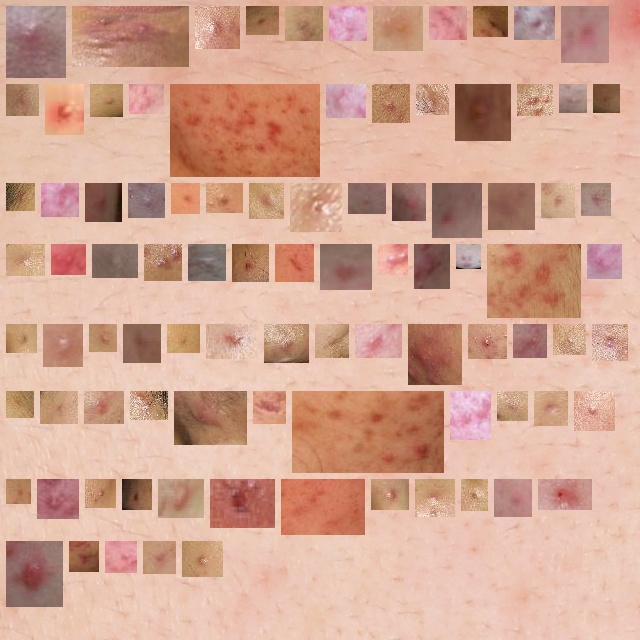papule: (178, 92, 312, 169), (300, 399, 436, 465), (80, 14, 181, 59), (495, 252, 573, 310), (289, 487, 357, 527), (14, 14, 58, 70), (182, 399, 239, 437), (408, 332, 454, 377), (14, 549, 55, 599), (463, 92, 503, 133), (218, 487, 267, 520), (440, 191, 474, 230), (569, 14, 601, 55), (298, 191, 334, 224), (328, 252, 364, 284), (381, 14, 415, 43), (496, 191, 527, 222), (546, 487, 584, 509), (458, 399, 483, 432), (53, 92, 76, 127), (203, 14, 232, 41), (166, 487, 196, 510), (214, 332, 250, 351), (272, 332, 301, 355), (51, 332, 75, 359), (45, 487, 71, 511), (582, 399, 607, 423), (422, 252, 442, 281), (327, 92, 358, 110), (363, 332, 394, 350), (100, 252, 130, 270), (423, 487, 447, 509), (380, 92, 402, 115), (283, 252, 306, 274), (131, 332, 153, 355), (190, 549, 215, 569), (502, 487, 524, 509), (93, 191, 114, 214), (152, 252, 174, 273), (196, 252, 218, 273), (240, 252, 261, 274), (522, 14, 547, 32), (476, 332, 499, 351), (600, 332, 620, 353), (293, 14, 315, 33), (337, 14, 359, 33), (92, 399, 116, 416), (136, 191, 157, 210), (437, 14, 459, 32), (49, 191, 71, 209), (400, 191, 418, 213), (257, 191, 276, 211), (48, 399, 70, 416), (14, 252, 37, 268), (595, 252, 614, 271), (549, 191, 567, 210), (542, 399, 560, 418), (356, 191, 378, 206), (379, 487, 401, 502), (323, 332, 341, 350), (521, 332, 539, 350), (525, 92, 545, 108), (214, 191, 235, 205), (98, 92, 115, 109), (261, 399, 278, 416), (151, 549, 168, 566), (138, 399, 160, 412), (481, 14, 500, 29), (59, 252, 78, 267), (14, 92, 31, 108), (137, 92, 156, 106), (113, 549, 129, 565), (424, 92, 441, 107), (561, 332, 578, 347), (589, 191, 603, 208), (254, 14, 271, 27), (175, 332, 192, 345), (386, 252, 400, 267), (505, 399, 520, 413), (130, 487, 144, 502), (77, 549, 91, 564), (179, 191, 192, 206), (14, 332, 29, 345), (93, 487, 108, 500), (469, 487, 480, 503), (567, 92, 579, 105), (14, 191, 27, 203), (97, 332, 109, 344), (601, 92, 612, 105), (14, 399, 26, 410), (464, 252, 473, 261), (14, 487, 23, 496)
